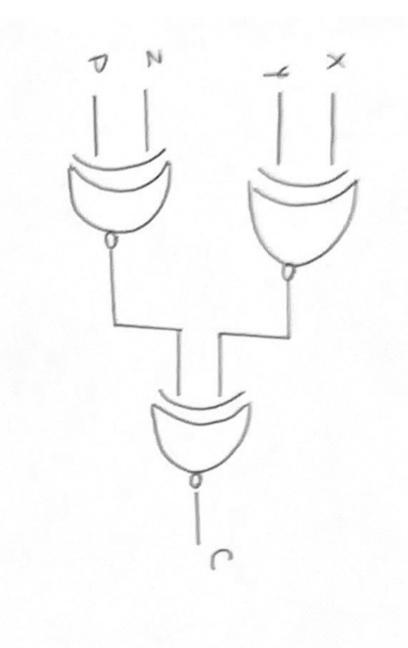XNOR: (241, 146, 376, 285), (62, 143, 199, 258), (139, 375, 264, 492)
